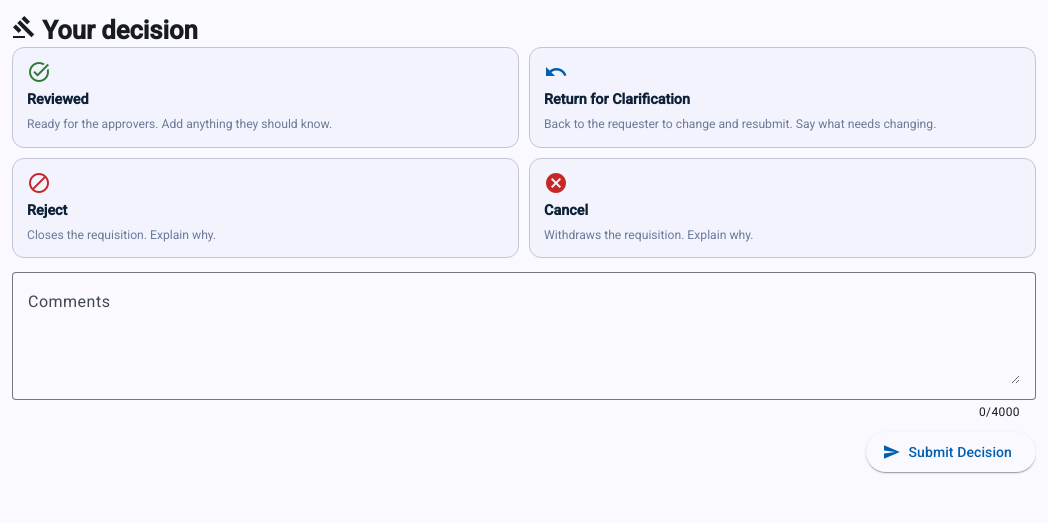
Test case: RequisitionDecisionPanelComponent › asks for a decision first
Click the button "Submit Decision" at (951, 452), box [866,432,1036,472]
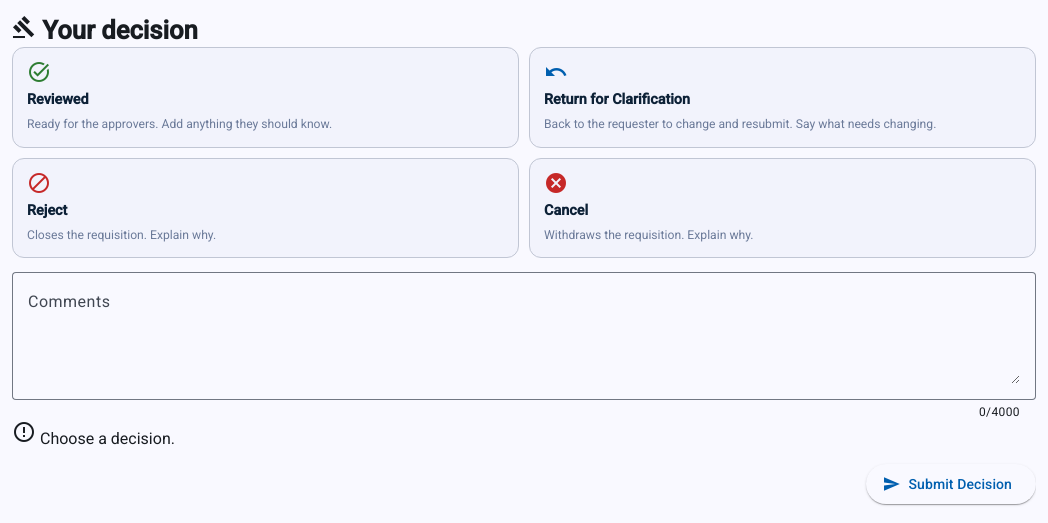
Result: the text "Choose a decision" is shown at [36,429,175,448]
